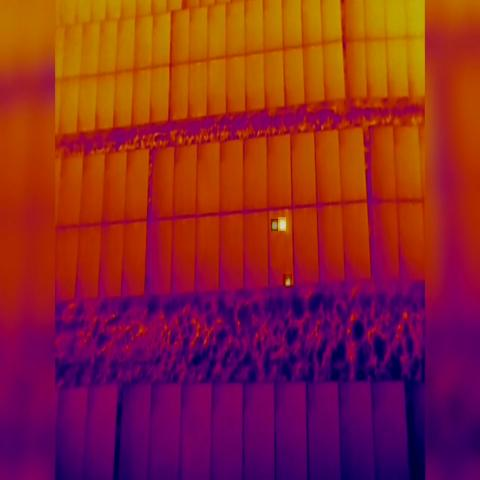fault: (278, 217, 286, 231), (283, 274, 292, 286), (271, 219, 278, 231)
